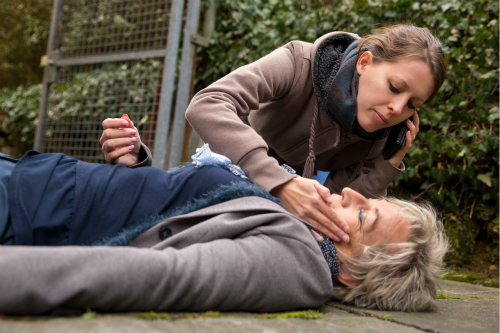fall: (2, 114, 443, 324)
